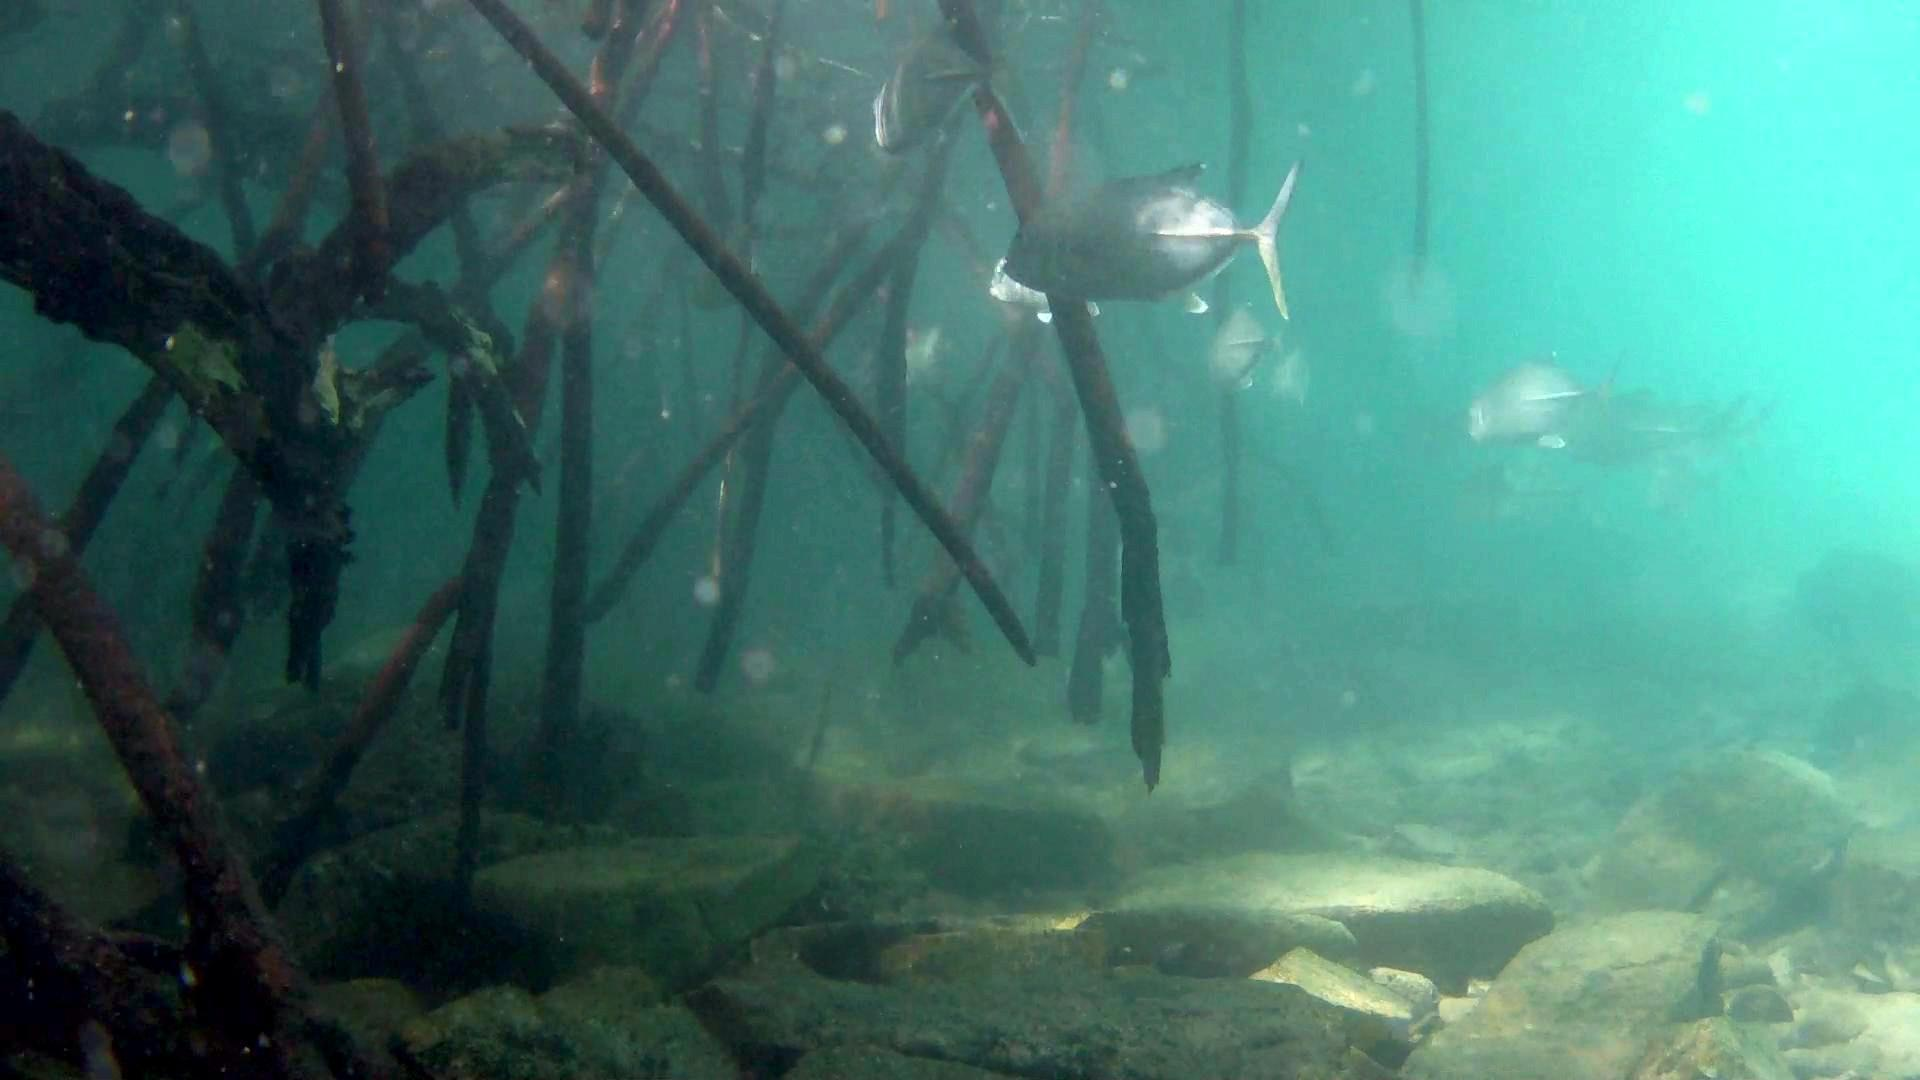caranx: (996, 153, 1328, 326), (853, 16, 1047, 165)
